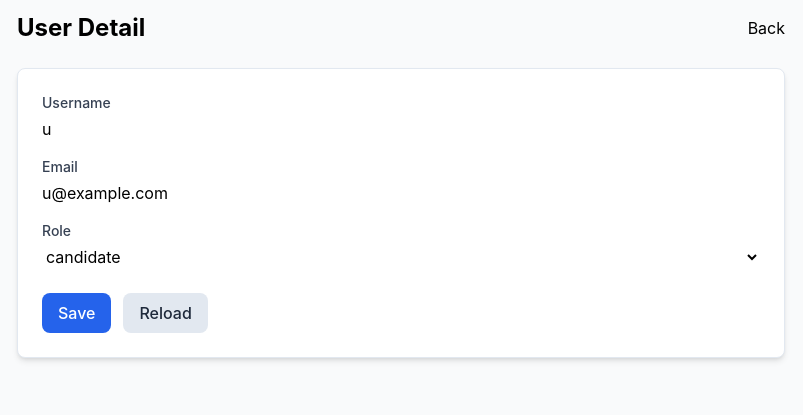
Admin UserDetail › loads user and saves updates
Note: Change username and role, then save
Replace the text in the field labelled "Username" with "u2" at [401, 129], box x1=42 y1=117 x2=760 y2=141
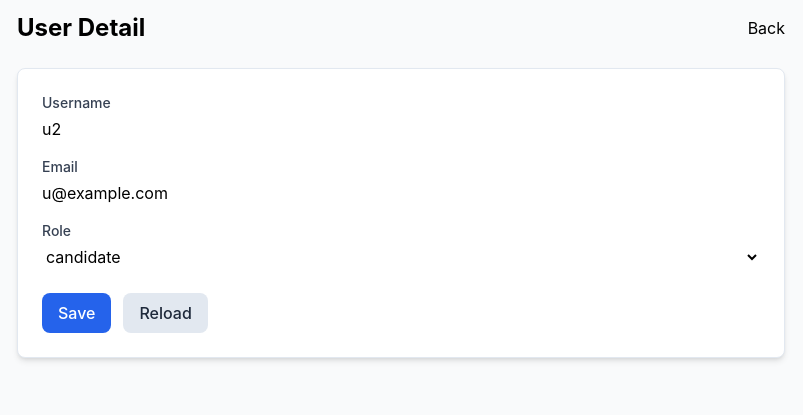
Select "recruiter" in the dropdown labelled "Role" at [401, 257], box x1=42 y1=246 x2=760 y2=268
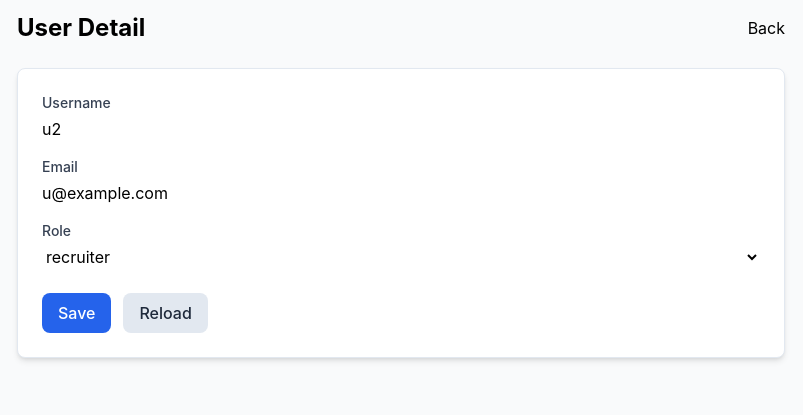
Click the button "Save" at [77, 313], box x1=42 y1=293 x2=112 y2=333
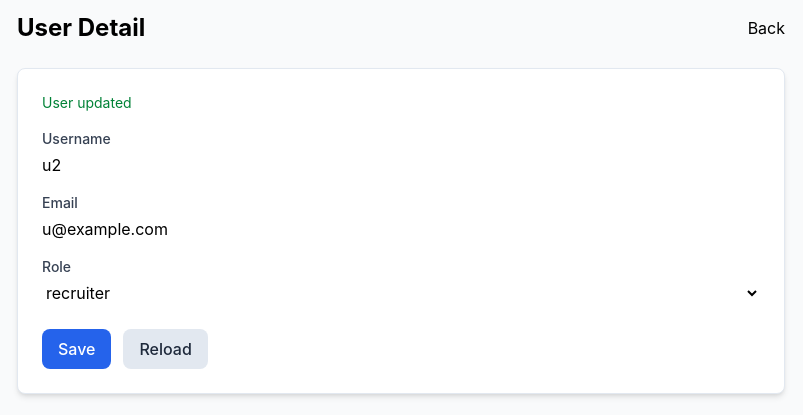
Expected: the text "User updated" is shown, x1=42 y1=94 x2=132 y2=111
